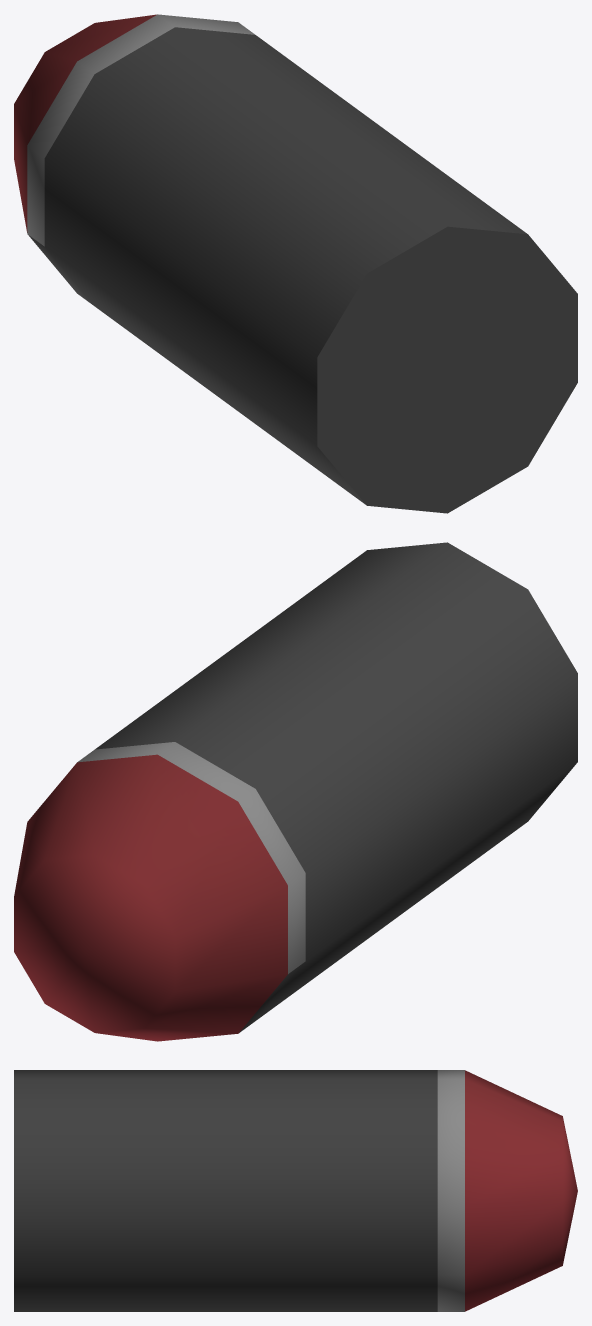
The model's file is GrenadeShell.fbx.
3 views of the same model, one above another, from view 1: azimuth 30°, elevation 25°; view 2: azimuth 150°, elevation 25°; view 3: azimuth 270°, elevation 25° (orthographic). The views are drawn at different scales.
Parts seen in each view (by area): view 1: GrenadeShell; view 2: GrenadeShell; view 3: GrenadeShell.
Part boxes in pixels (x1,y1,x2,y2): GrenadeShell: [14, 14, 577, 513]; GrenadeShell: [14, 542, 577, 1041]; GrenadeShell: [14, 1070, 577, 1311].
Size of the model in its own units: 33.56 by 35.29 by 80.84.
